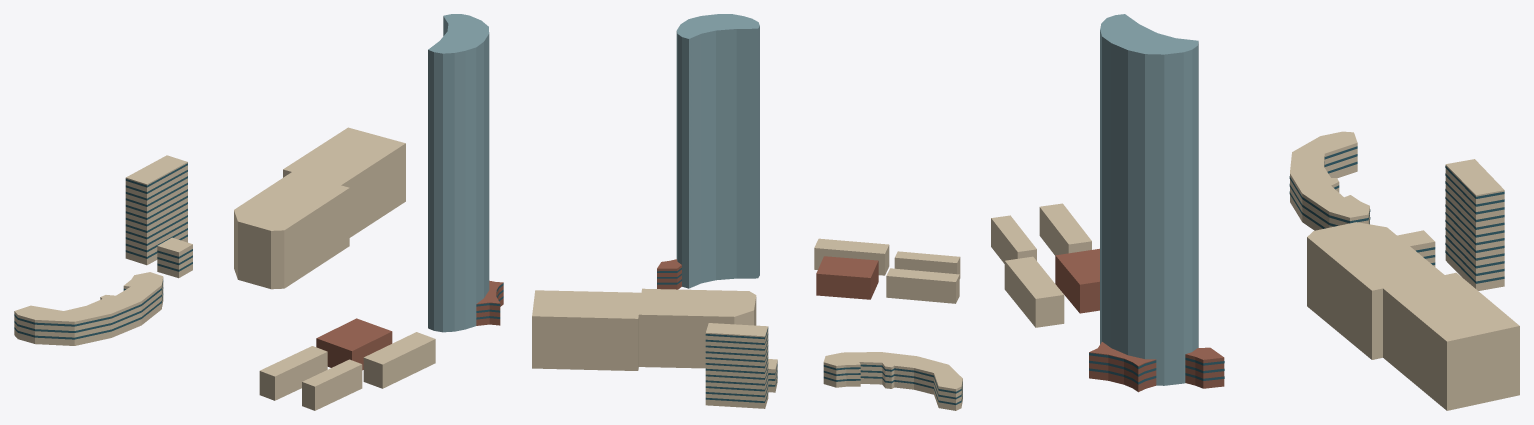
The model's file is city_0_5.glb.
The picture shows the model from 3 angles, left to right: view 1: azimuth 30°, elevation 25°; view 2: azimuth 150°, elevation 25°; view 3: azimuth 270°, elevation 25°; orthographic projection. The views are drawn at different scales.
Visible parts, largest first — view 1: city_0_5; view 2: city_0_5; view 3: city_0_5.
Boxes of the visible parts, box(x1,y1,x2,y2) form: city_0_5: box(14, 14, 503, 410); city_0_5: box(532, 14, 962, 410); city_0_5: box(991, 14, 1519, 410).
Bounding box in the file's own units: 279 × 172 × 249.
